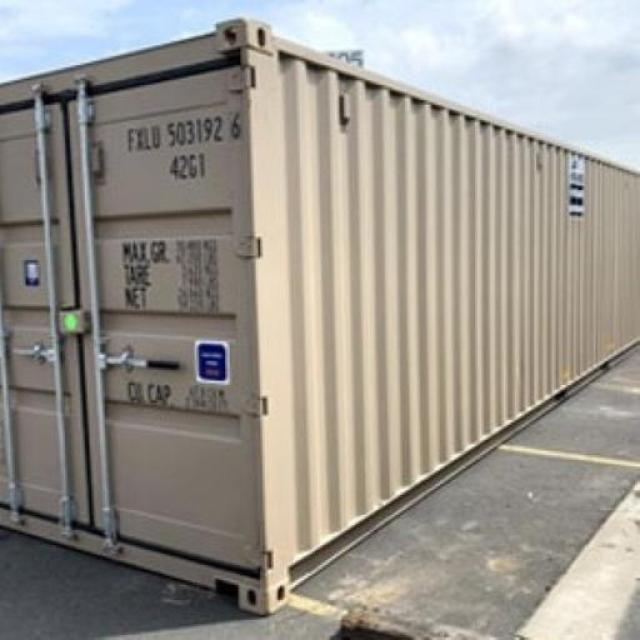ISO: (166, 152, 209, 181)
container_number: (119, 109, 244, 152)
